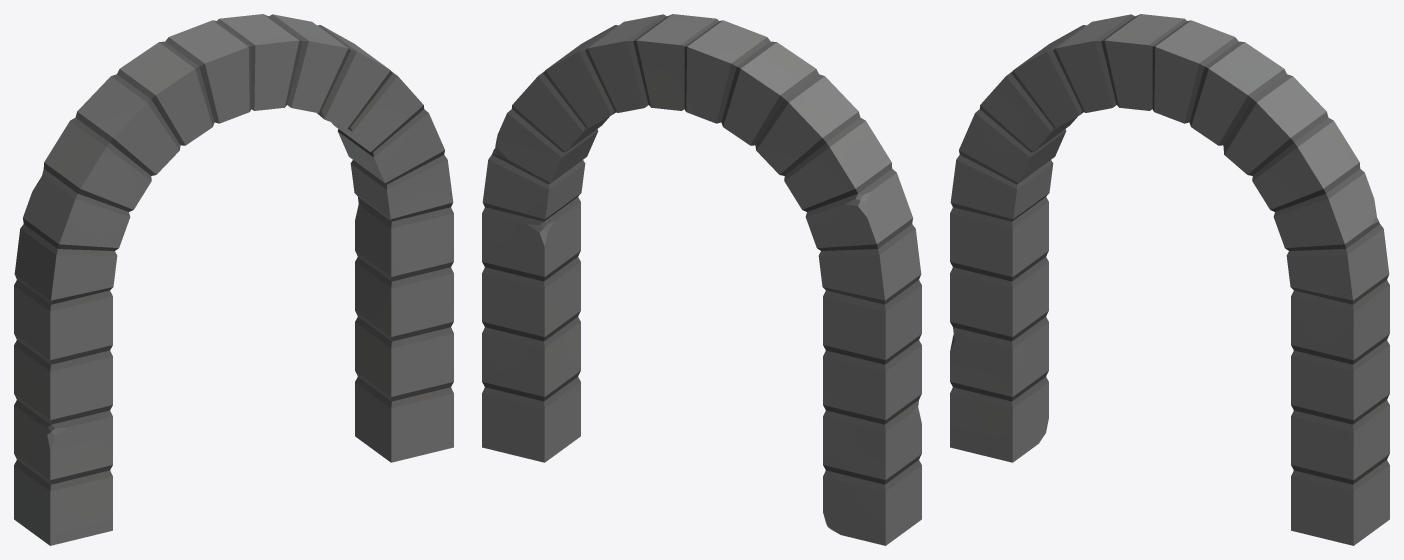
The model's file is Arch_4.fbx.
3 views of the same model, side by side, from view 1: azimuth 30°, elevation 25°; view 2: azimuth 150°, elevation 25°; view 3: azimuth 330°, elevation 25° (orthographic).
Parts seen in each view (by area): view 1: Arch 4; view 2: Arch 4; view 3: Arch 4.
Part boxes in pixels (x1=…): Arch 4: x1=14, y1=14, x2=453, y2=545; Arch 4: x1=482, y1=14, x2=921, y2=545; Arch 4: x1=950, y1=14, x2=1389, y2=545.
Bounding box in the file's own units: 221 × 236 × 34.4.
